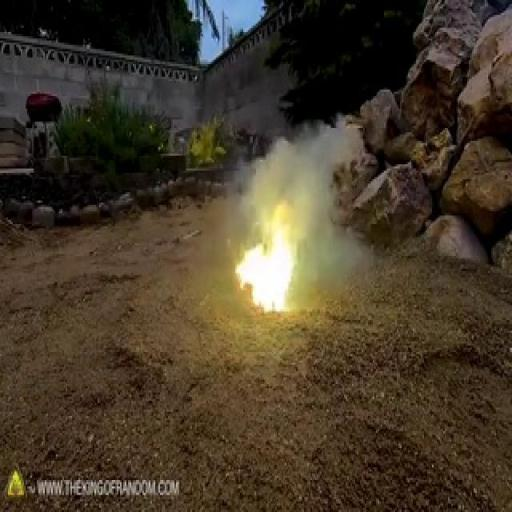smoke: (223, 188, 287, 318)
